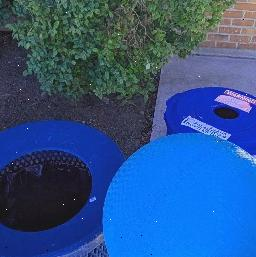algae: (104, 130, 256, 257)
